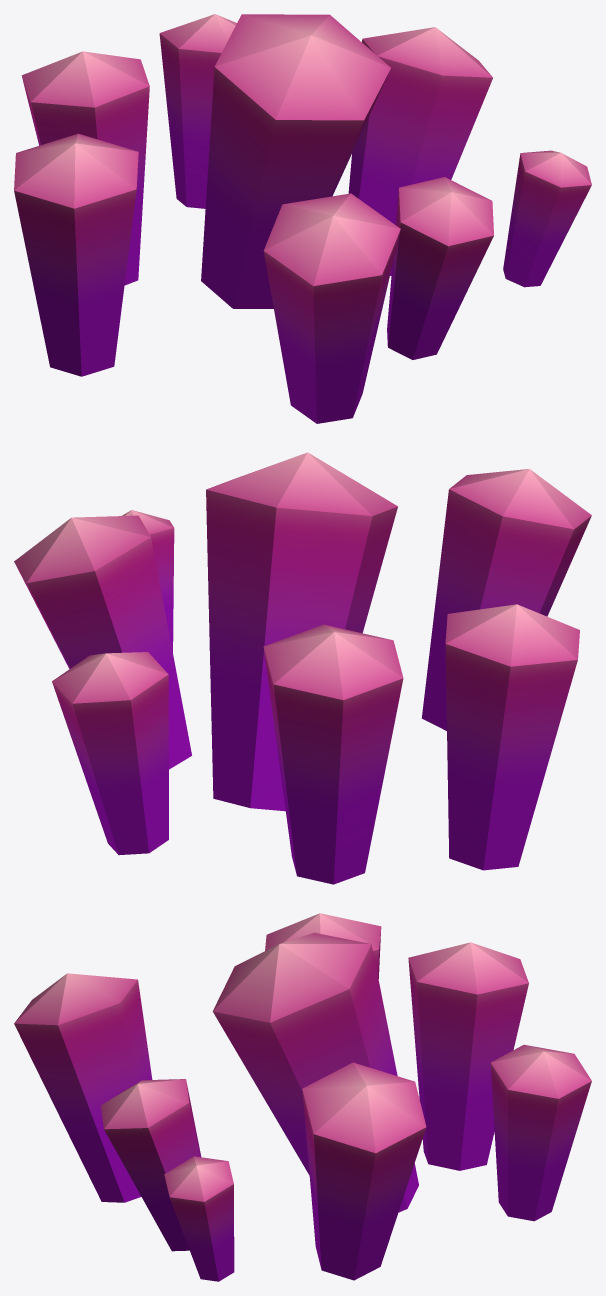
Rendered from Coral Type 5.fbx.
3 renders of one model, top to bottom at view 1: azimuth 30°, elevation 25°; view 2: azimuth 150°, elevation 25°; view 3: azimuth 270°, elevation 25°, orthographic. The views are drawn at different scales.
Parts seen in each view (by area): view 1: pCylinder9; view 2: pCylinder9; view 3: pCylinder9.
Part boxes in pixels (x1,y1,x2,y2): pCylinder9: (14, 14, 591, 423); pCylinder9: (14, 452, 591, 884); pCylinder9: (14, 913, 591, 1281).
Bounding box in the file's own units: 66.75 × 37.92 × 69.95.
